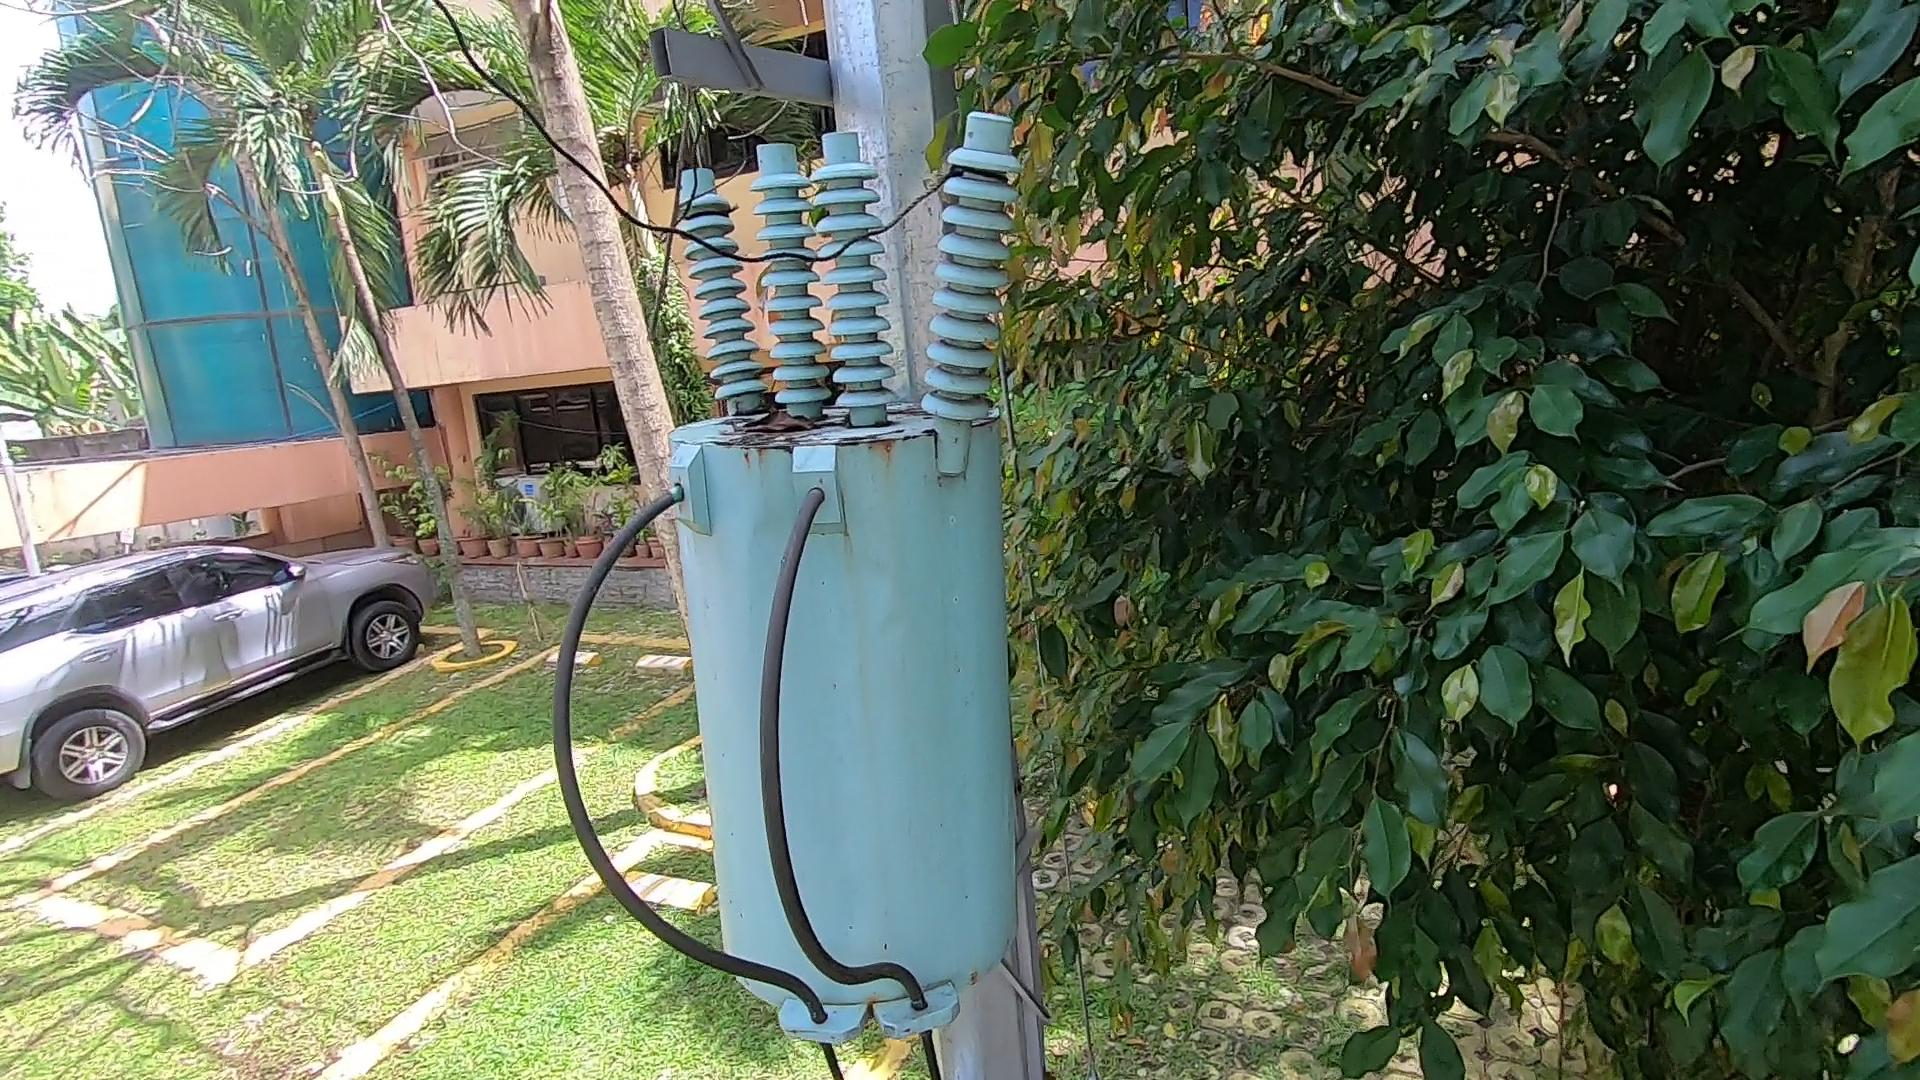leaf: (744, 389, 818, 443)
tree branch: (611, 32, 733, 363)
